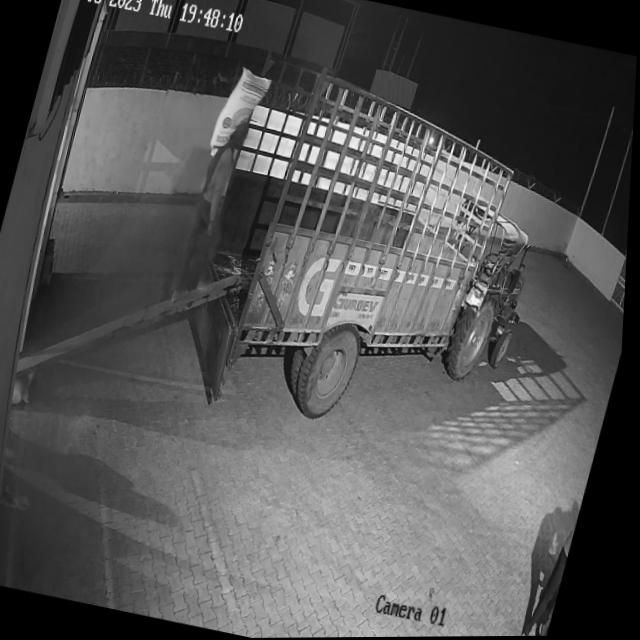sack: (206, 63, 274, 163)
